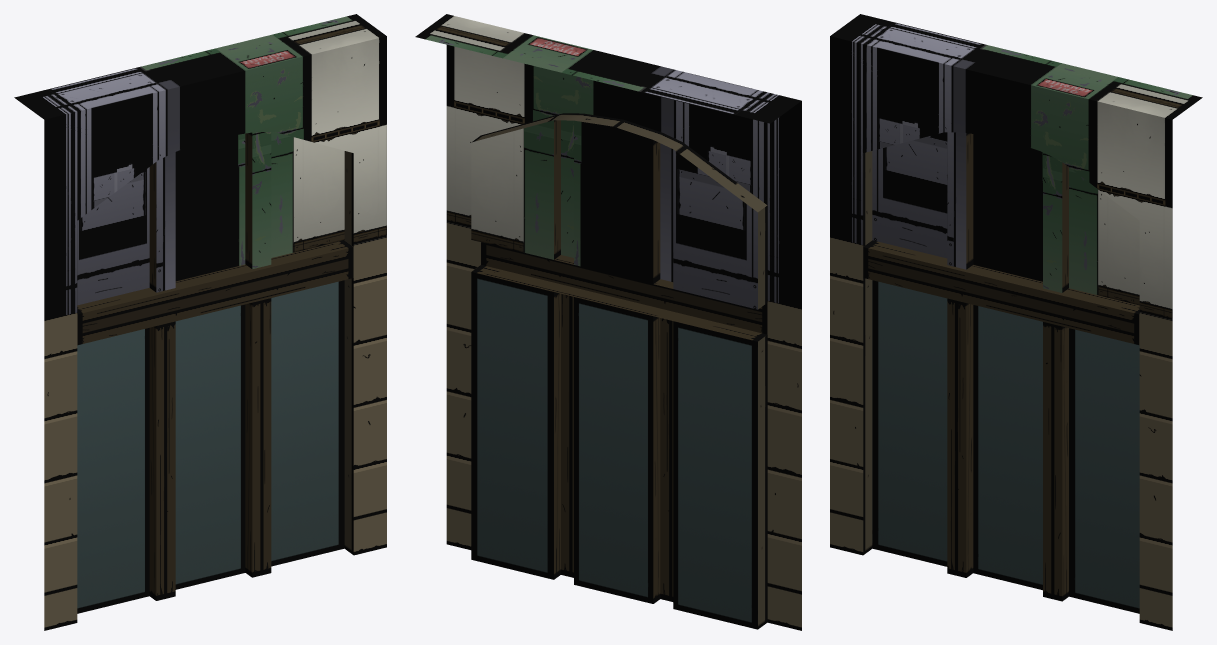
The model's file is mod_env_city_building_city_city_building01_facade_straight01.fbx.
The picture shows the model from 3 angles, left to right: view 1: azimuth 30°, elevation 25°; view 2: azimuth 150°, elevation 25°; view 3: azimuth 330°, elevation 25°; orthographic projection. The views are drawn at different scales.
Parts seen in each view (by area): view 1: mod_env_building_facade_straight01; view 2: mod_env_building_facade_straight01; view 3: mod_env_building_facade_straight01.
Boxes of the visible parts, x1,y1,x2,y2 form: mod_env_building_facade_straight01: [14, 14, 386, 630]; mod_env_building_facade_straight01: [415, 14, 801, 630]; mod_env_building_facade_straight01: [830, 14, 1202, 630].
Bounding box in the file's own units: 400 × 570 × 61.24.
